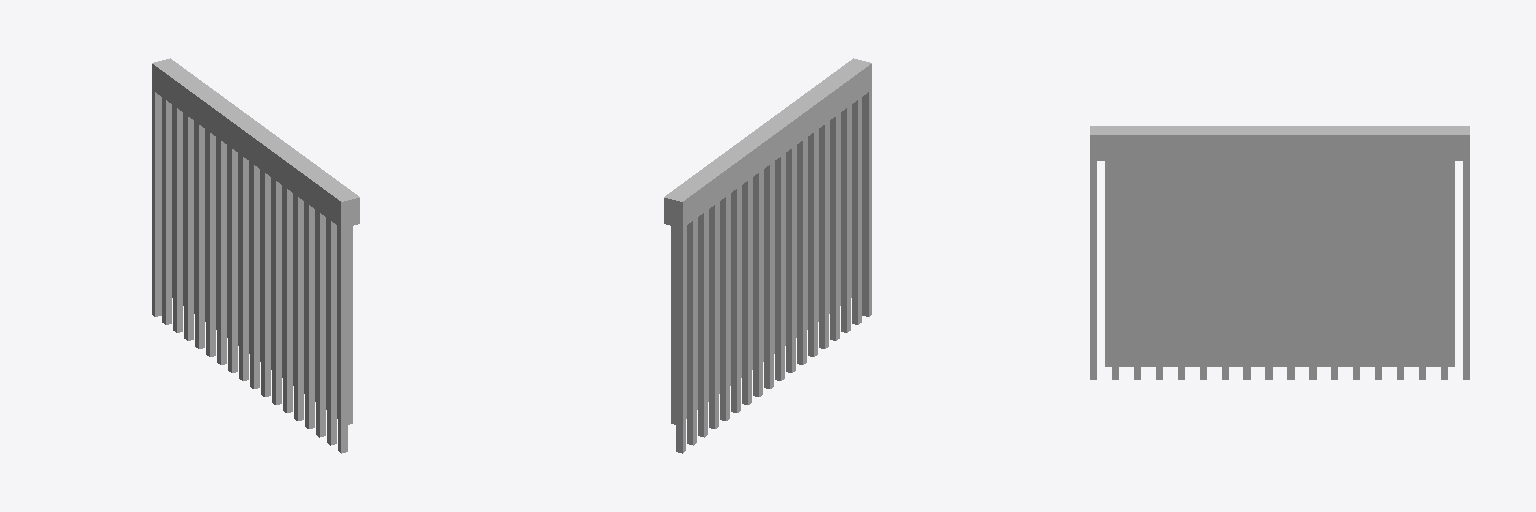
Rendered from window.obj.
The picture shows the model from 3 angles: view 1: azimuth 30°, elevation 25°; view 2: azimuth 150°, elevation 25°; view 3: azimuth 270°, elevation 25°; orthographic projection.
Parts seen in each view (by area): view 1: window; view 2: window; view 3: window.
Part boxes in pixels (bbox=[...]): window: bbox=[152, 58, 359, 453]; window: bbox=[664, 58, 871, 453]; window: bbox=[1090, 126, 1469, 379].
Bounding box in the file's own units: 3 × 38 × 52.